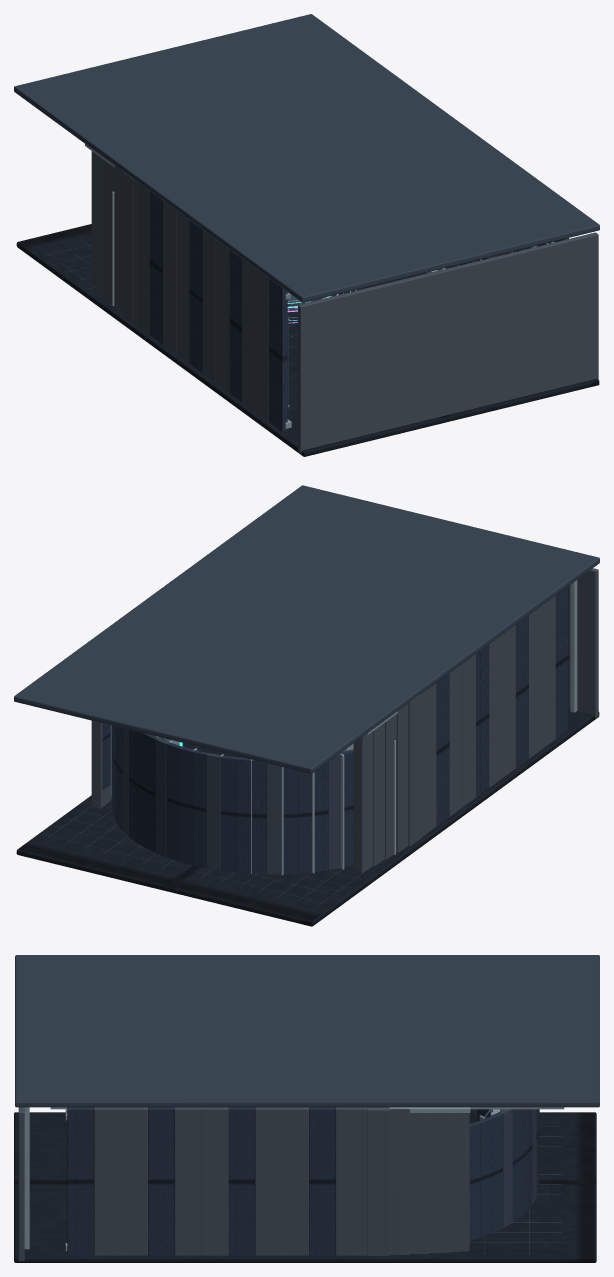
File: synestra_reactor_decor_r216.glb
3 renders of one model, top to bottom at view 1: azimuth 30°, elevation 25°; view 2: azimuth 150°, elevation 25°; view 3: azimuth 270°, elevation 25°, orthographic.
Visible parts, largest first — view 1: CEILING_ROOF_CLOSED, CAMERA_BACK_WALL, FLOOR_BASE, SIDE_BULKHEAD_-1_00, SIDE_BULKHEAD_-1_09, SIDE_BULKHEAD_-1_05, SIDE_BULKHEAD_-1_01, SIDE_BULKHEAD_-1_02, SIDE_BULKHEAD_-1_03, SIDE_BULKHEAD_-1_04, SIDE_BULKHEAD_-1_06, SIDE_BULKHEAD_-1_07 (+7 smaller); view 2: CEILING_ROOF_CLOSED, FLOOR_BASE, CAMERA_BACK_WALL, SIDE_REAR_SEALED_WING_-1_04, SIDE_REAR_SEALED_WING_-1_00, SIDE_BULKHEAD_-1_08, SIDE_BULKHEAD_-1_01, SIDE_BULKHEAD_-1_04, SIDE_BULKHEAD_-1_05, SIDE_BULKHEAD_-1_06, SIDE_BULKHEAD_-1_02, SIDE_BULKHEAD_-1_09 (+29 smaller); view 3: CEILING_ROOF_CLOSED, FLOOR_BASE, SIDE_BULKHEAD_1_00, SIDE_BULKHEAD_1_01, SIDE_BULKHEAD_1_05, SIDE_BULKHEAD_1_06, SIDE_BULKHEAD_1_07, SIDE_BULKHEAD_1_02, SIDE_BULKHEAD_1_03, SIDE_BULKHEAD_1_04, SIDE_BULKHEAD_1_08, SIDE_BULKHEAD_1_09 (+18 smaller).
Boxes of the visible parts, x1,y1,x2,y2 form: CEILING_ROOF_CLOSED: (14, 14, 599, 302); CAMERA_BACK_WALL: (298, 232, 598, 453); FLOOR_BASE: (16, 224, 599, 456); SIDE_BULKHEAD_-1_00: (269, 278, 287, 431); SIDE_BULKHEAD_-1_09: (149, 191, 162, 344); SIDE_BULKHEAD_-1_05: (202, 230, 215, 382); SIDE_BULKHEAD_-1_01: (255, 269, 268, 421); SIDE_BULKHEAD_-1_02: (242, 259, 255, 411); SIDE_BULKHEAD_-1_03: (229, 249, 242, 402); SIDE_BULKHEAD_-1_04: (216, 240, 229, 392); SIDE_BULKHEAD_-1_06: (189, 220, 202, 373); SIDE_BULKHEAD_-1_07: (176, 211, 189, 363); CEILING_ROOF_CLOSED: (14, 485, 599, 773); FLOOR_BASE: (16, 709, 599, 926); CAMERA_BACK_WALL: (569, 568, 598, 718); SIDE_REAR_SEALED_WING_-1_04: (353, 731, 373, 872); SIDE_REAR_SEALED_WING_-1_00: (408, 694, 421, 846); SIDE_BULKHEAD_-1_08: (449, 663, 462, 816); SIDE_BULKHEAD_-1_01: (542, 596, 555, 748); SIDE_BULKHEAD_-1_04: (502, 625, 515, 777); SIDE_BULKHEAD_-1_05: (489, 634, 502, 787); SIDE_BULKHEAD_-1_06: (476, 644, 489, 797); SIDE_BULKHEAD_-1_02: (529, 605, 542, 758); SIDE_BULKHEAD_-1_09: (436, 673, 449, 826); CEILING_ROOF_CLOSED: (15, 955, 599, 1107); FLOOR_BASE: (14, 1112, 596, 1262); SIDE_BULKHEAD_1_00: (67, 1107, 94, 1255); SIDE_BULKHEAD_1_01: (94, 1107, 121, 1255); SIDE_BULKHEAD_1_05: (201, 1107, 228, 1255); SIDE_BULKHEAD_1_06: (228, 1107, 255, 1255); SIDE_BULKHEAD_1_07: (255, 1107, 282, 1255); SIDE_BULKHEAD_1_02: (121, 1107, 147, 1255); SIDE_BULKHEAD_1_03: (148, 1107, 174, 1255); SIDE_BULKHEAD_1_04: (175, 1107, 201, 1255); SIDE_BULKHEAD_1_08: (282, 1107, 308, 1255); SIDE_BULKHEAD_1_09: (309, 1107, 335, 1255).
Size of the model in its own units: 15.2 by 7.8 by 25.55.
Materials: 20 (4 with a texture image).
